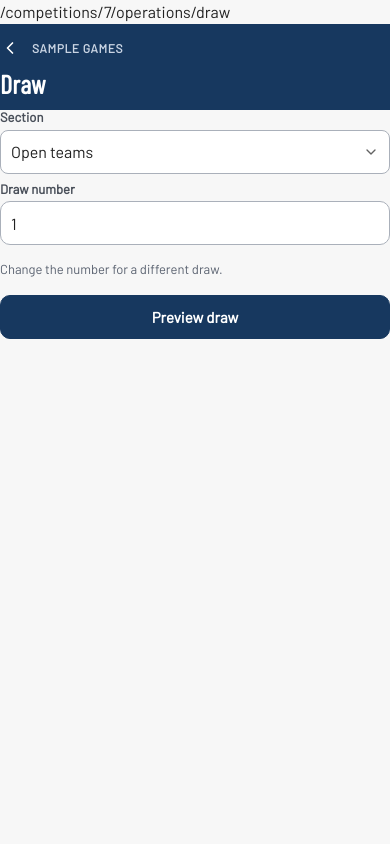
Scenario: OperationsPage › shows the draw as a lane-numbered preview with fairness, rounds and settings behind the overflow
Click the button "Preview draw".
click(195, 317)  # box [0,295,389,339]
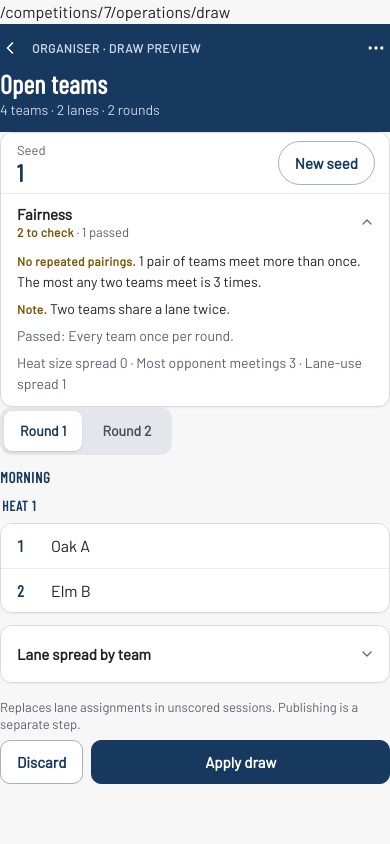
Now the heading "Open teams" is shown, box [0,68,107,99]
Now the text "4 teams · 2 lanes · 2 rounds" is shown, box [0,101,160,118]
Now the text "2 to check" is shown, box [17,225,74,239]
Click the button "Round 2".
click(127, 432)  # box [86,412,168,452]
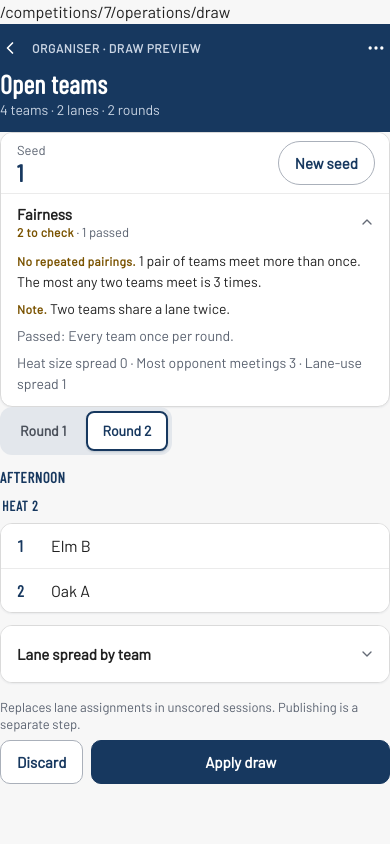
Expected: the label labelled "Draw number" is not shown
Now the text "Publishing is a separate step" is shown, box [0,699,358,732]
Now the text "Afternoon" is shown, box [0,468,66,486]
Click the button named "Draw settings".
click(372, 48)  # box [354,26,389,70]
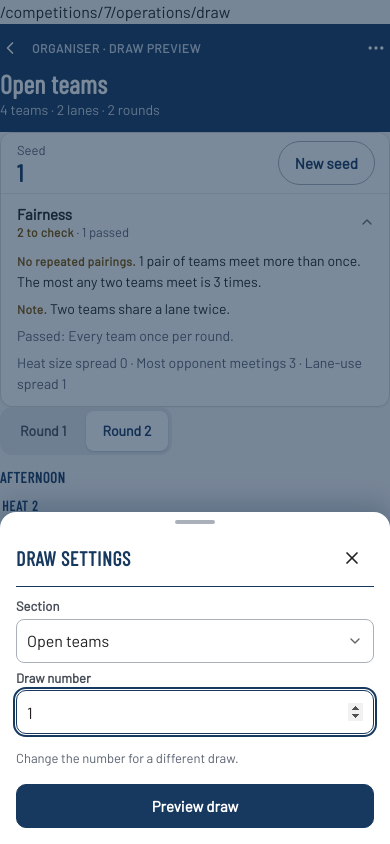
Now the dialog "Draw settings" is shown, box [0,512,389,843]
Now the number field labelled "Draw number" is shown, box [16,690,374,734]
